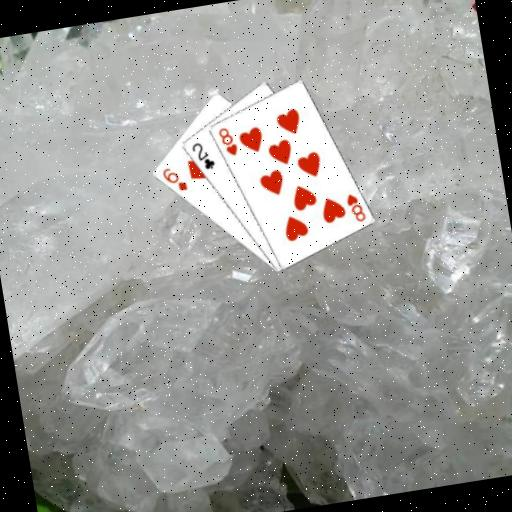2C: (187, 137, 217, 173)
6D: (158, 162, 189, 195)
8H: (214, 123, 239, 159), (342, 188, 367, 224)
